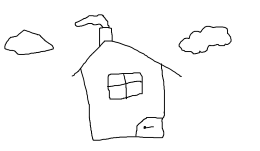closed_window: (107, 71, 143, 100)
clouds: (178, 24, 232, 54), (3, 28, 54, 55)
door: (132, 115, 167, 144)
single_line_roof: (72, 40, 183, 77)
smoking_chimney: (72, 10, 117, 47)
wall: (79, 66, 165, 141)
